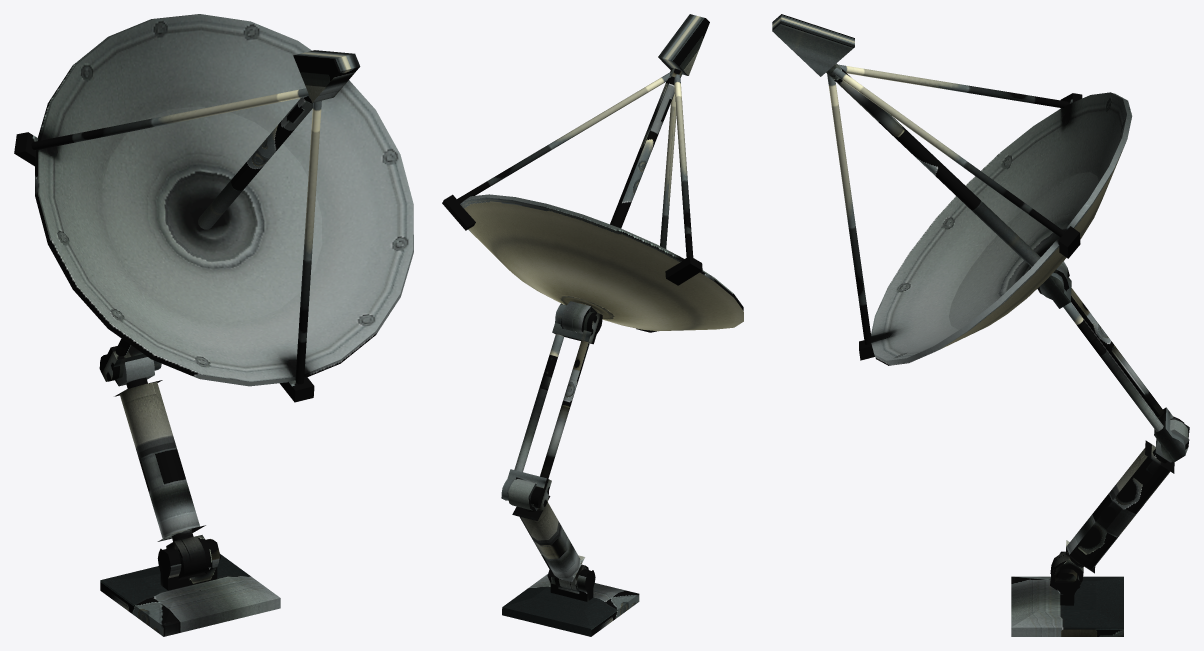
The model's file is dish.obj.
3 views of the same model, side by side, from view 1: azimuth 30°, elevation 25°; view 2: azimuth 150°, elevation 25°; view 3: azimuth 270°, elevation 25° (orthographic). The views are drawn at different scales.
Visible parts, largest first — view 1: Circle.003_Circle.008; view 2: Circle.003_Circle.008; view 3: Circle.003_Circle.008.
Boxes of the visible parts, box(x1,y1,x2,y2) form: Circle.003_Circle.008: box(14, 14, 413, 636); Circle.003_Circle.008: box(442, 14, 743, 636); Circle.003_Circle.008: box(772, 14, 1189, 636).
Bounding box in the file's own units: 1.99 × 3.58 × 2.29.
